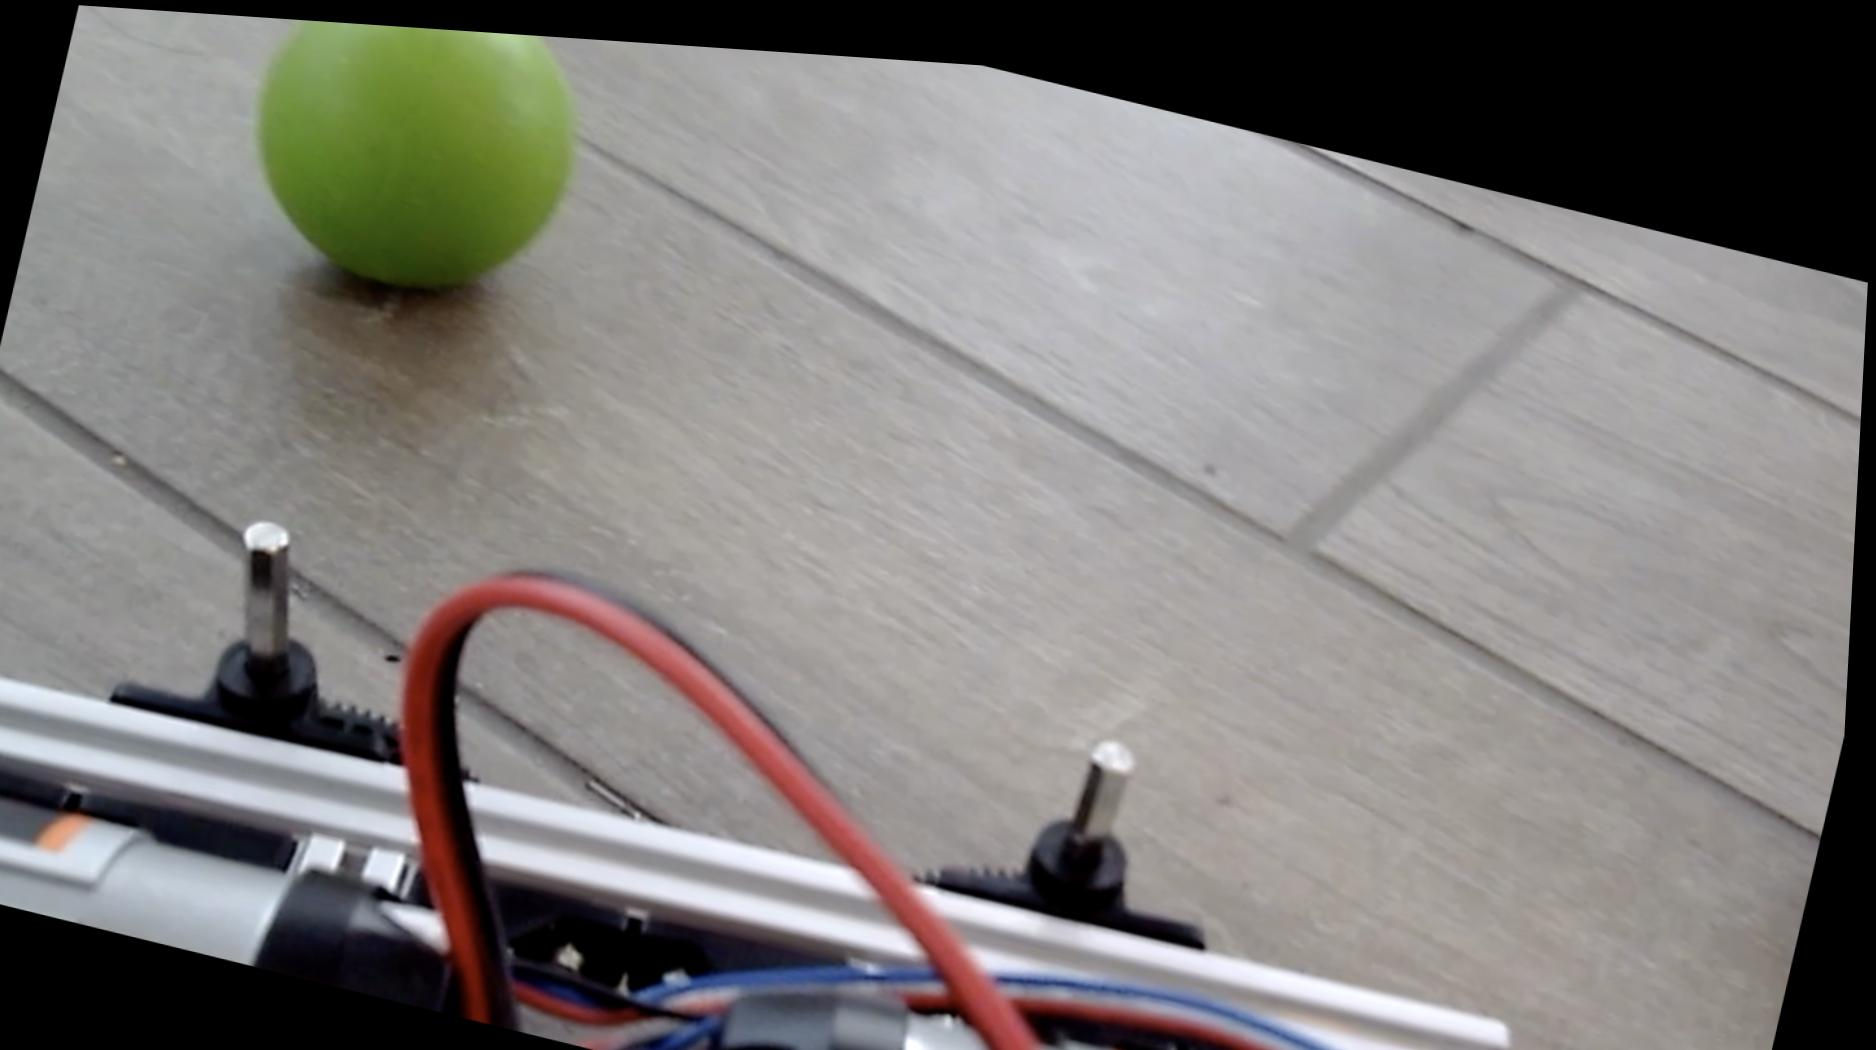greenball: (223, 13, 607, 318)
